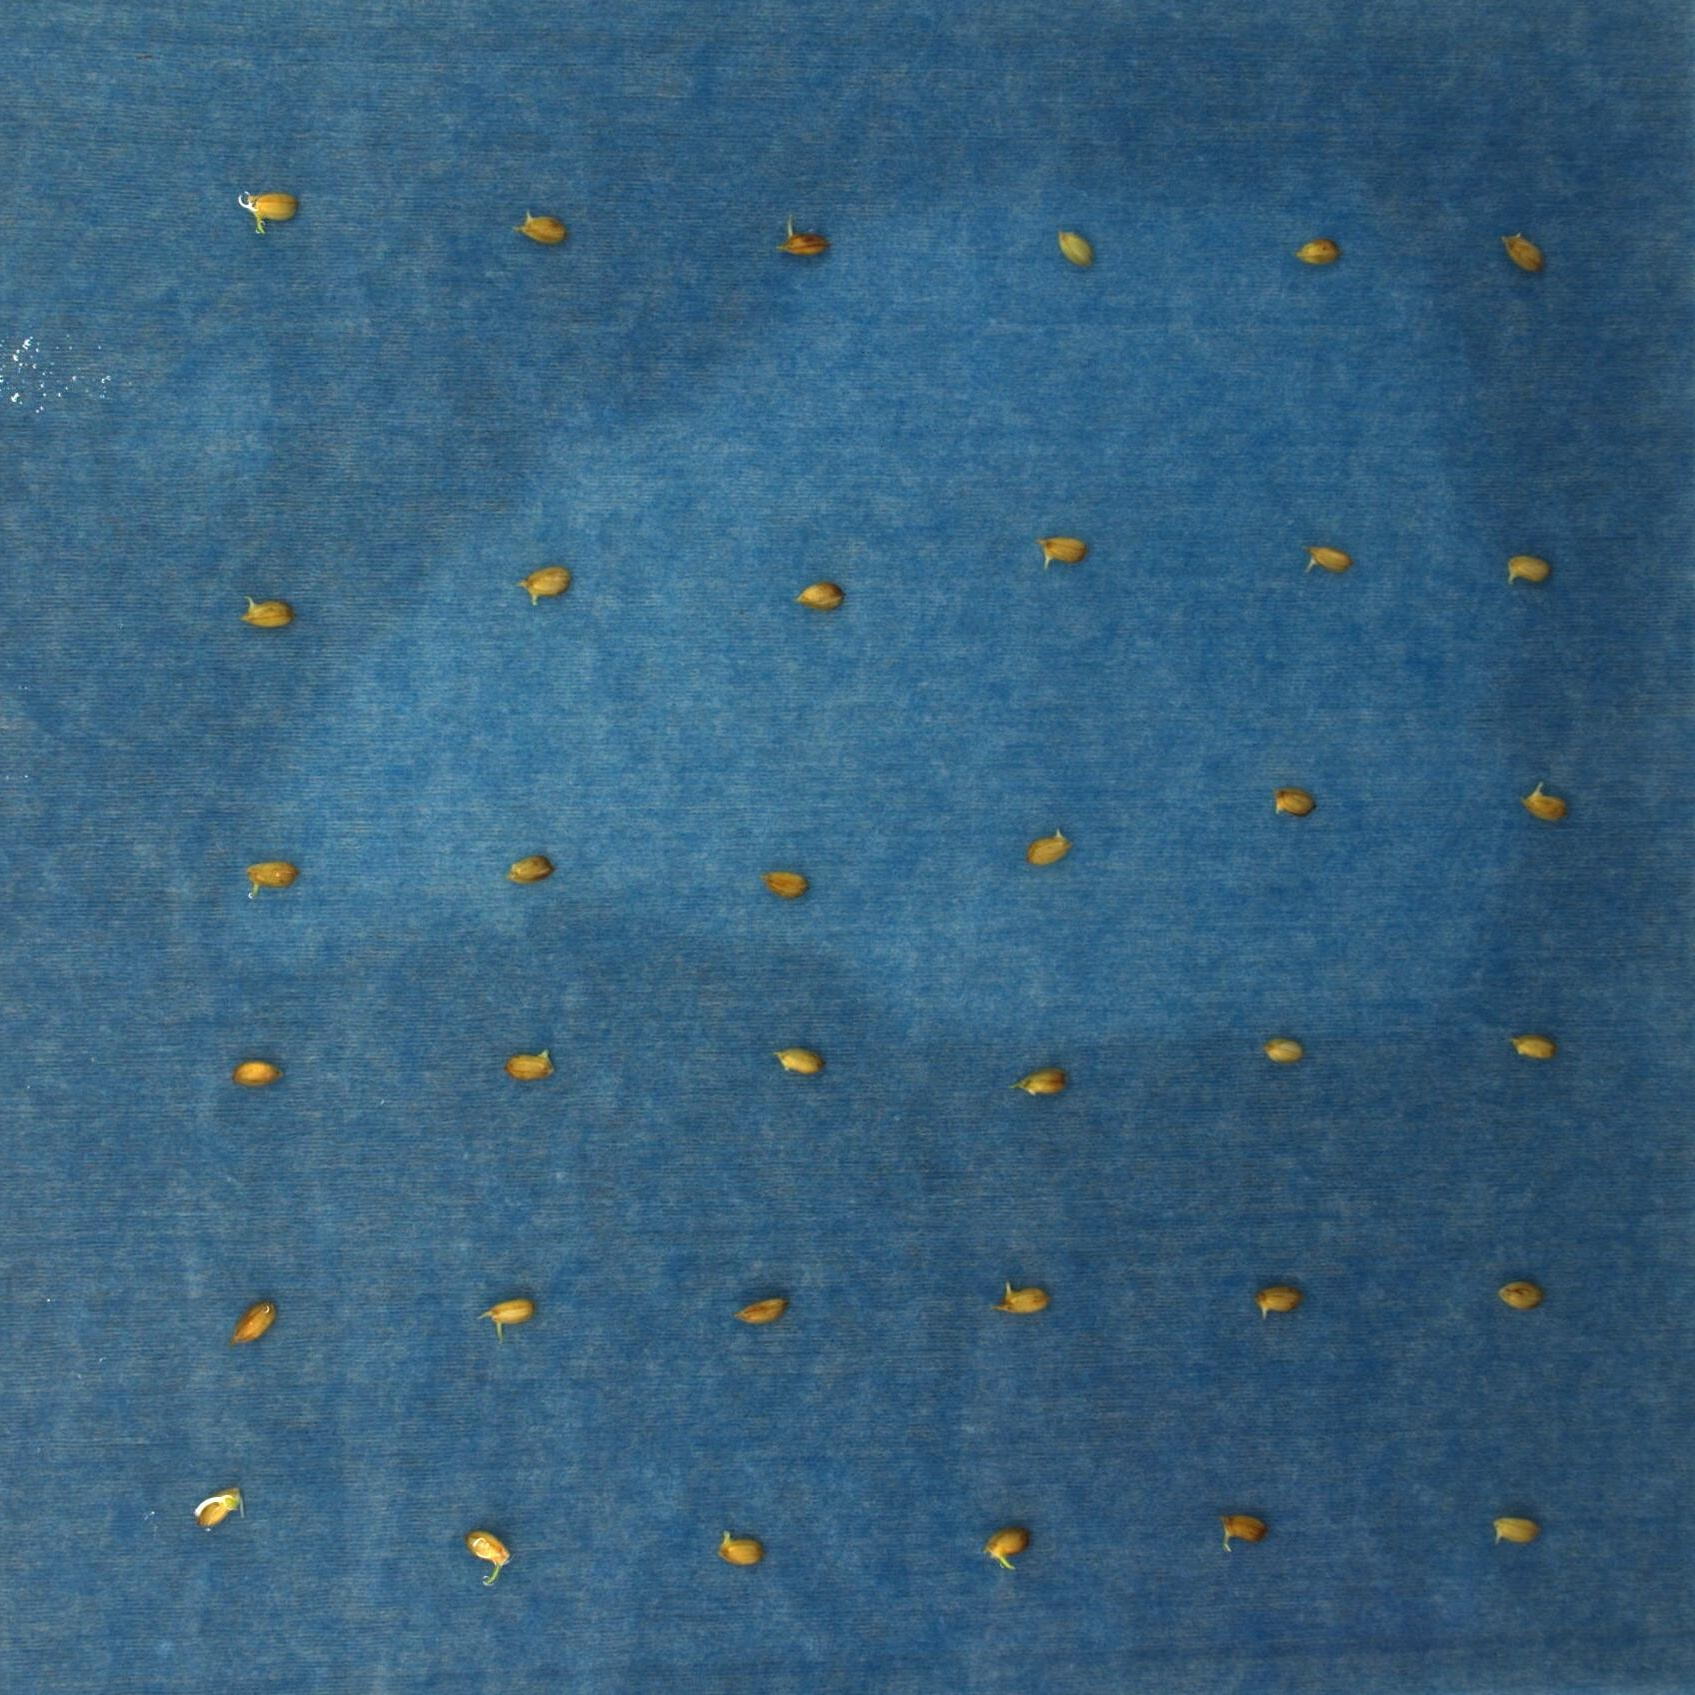not sprout: (764, 203, 838, 261), (222, 1284, 286, 1349), (233, 581, 298, 641), (458, 1524, 515, 1589), (1265, 770, 1321, 830), (192, 1478, 255, 1532), (515, 557, 577, 612), (237, 852, 303, 903), (1026, 529, 1097, 574), (237, 183, 304, 231), (1021, 821, 1082, 874), (1298, 534, 1357, 587), (787, 576, 854, 622), (984, 1274, 1051, 1321), (762, 855, 818, 910), (1499, 227, 1554, 282), (983, 1521, 1034, 1575), (1049, 214, 1097, 272), (517, 203, 577, 248), (768, 1035, 829, 1080), (736, 1284, 789, 1333), (1288, 227, 1343, 275), (1485, 1510, 1549, 1551), (1506, 1021, 1558, 1069), (712, 1527, 768, 1572), (1516, 776, 1572, 821), (1493, 1276, 1554, 1316), (1253, 1276, 1309, 1318), (475, 1296, 540, 1332), (495, 1043, 557, 1080), (1220, 1506, 1267, 1555), (500, 843, 546, 889), (1257, 1031, 1309, 1073), (1503, 549, 1555, 590), (1018, 1065, 1077, 1101), (224, 1060, 289, 1090)
